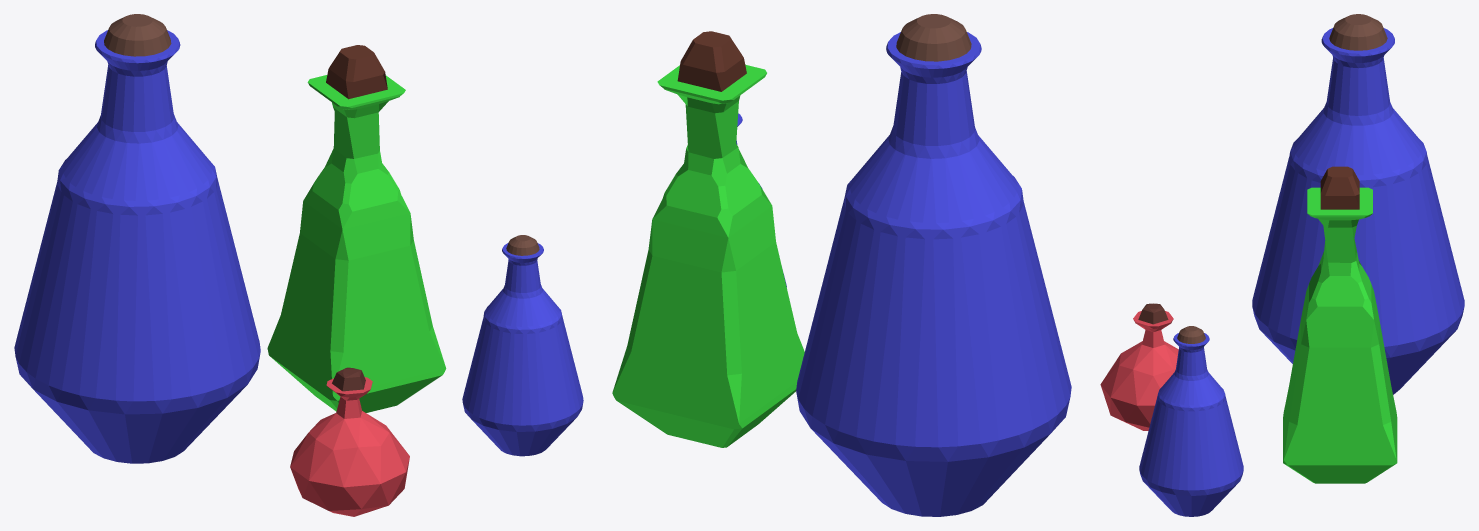
Rendered from Potion-ustawienie3.fbx.
The picture shows the model from 3 angles, left to right: view 1: azimuth 30°, elevation 25°; view 2: azimuth 150°, elevation 25°; view 3: azimuth 270°, elevation 25°; orthographic projection. The views are drawn at different scales.
Visible parts, largest first — view 1: Icosphere; view 2: Icosphere; view 3: Icosphere.
Part boxes in pixels (bbox=[...]): Icosphere: bbox=[14, 14, 583, 516]; Icosphere: bbox=[612, 14, 1071, 516]; Icosphere: bbox=[1100, 14, 1464, 516].
Size of the model in its own units: 232 by 211 by 189.
